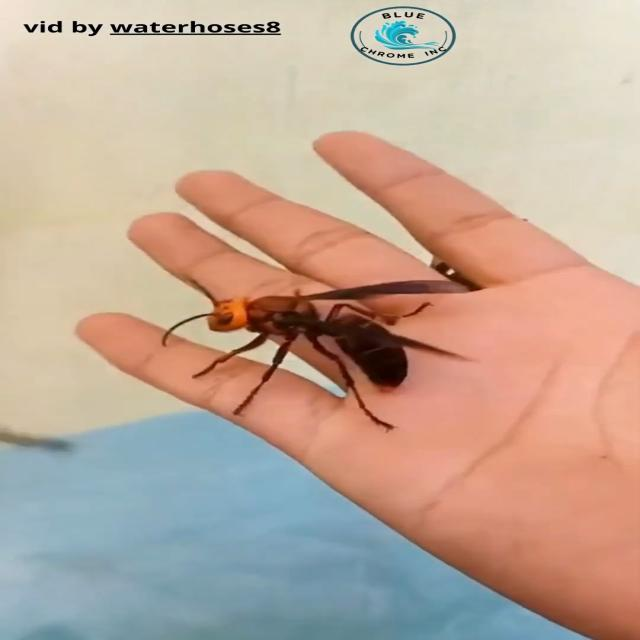Hornets: (158, 276, 484, 433)
